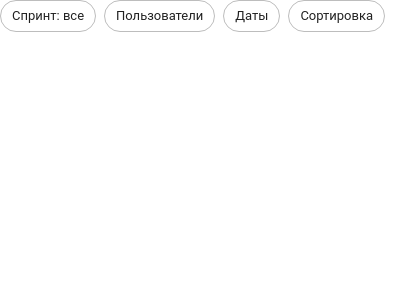
KanbanFiltersUI › hides completed sprints in the sprint menu until the toggle is enabled
The image size is (402, 287).
Click the button "Спринт: все" at (48, 16), box [0,0,96,32]
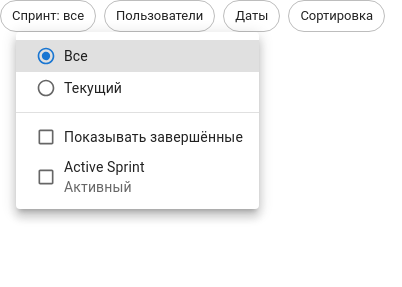
Expected: the text "Completed Sprint" is not shown
Now the text "Active Sprint" is shown, box [64,159,145,175]
Click the menu item "Показывать завершённые" at (138, 137), box [16,121,259,153]
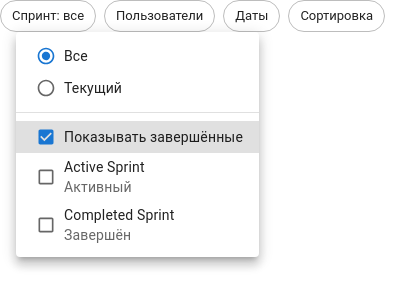
Now the text "Completed Sprint" is shown, box [64,207,174,223]
